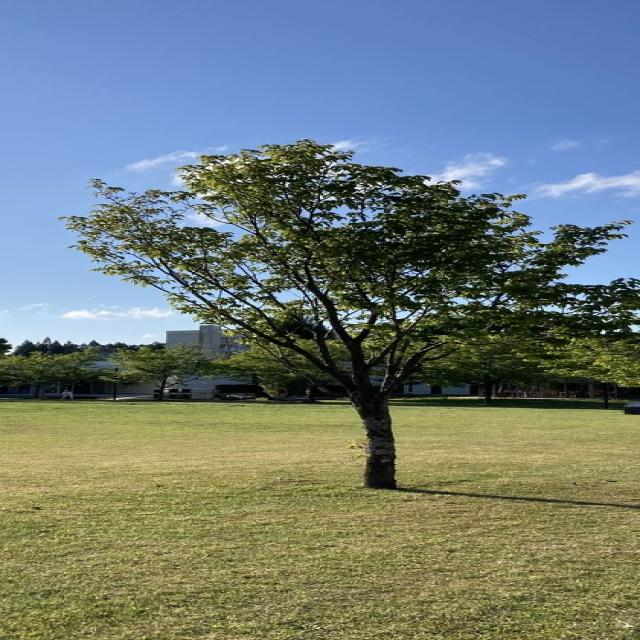sakura: (55, 138, 640, 488)
